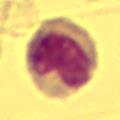monocyte: (23, 14, 100, 99)
